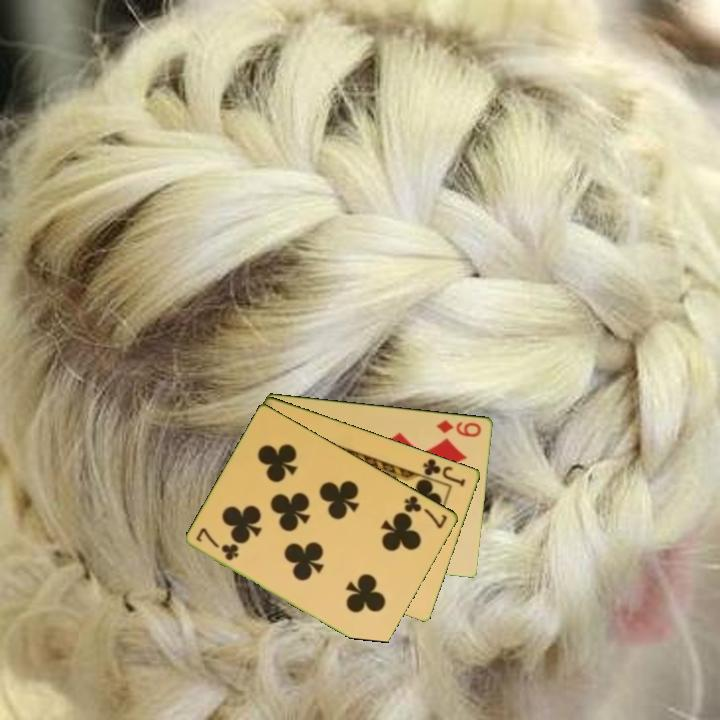7c: (192, 524, 242, 563), (401, 492, 450, 531)
9d: (433, 416, 484, 440)
Jc: (420, 455, 469, 489)
